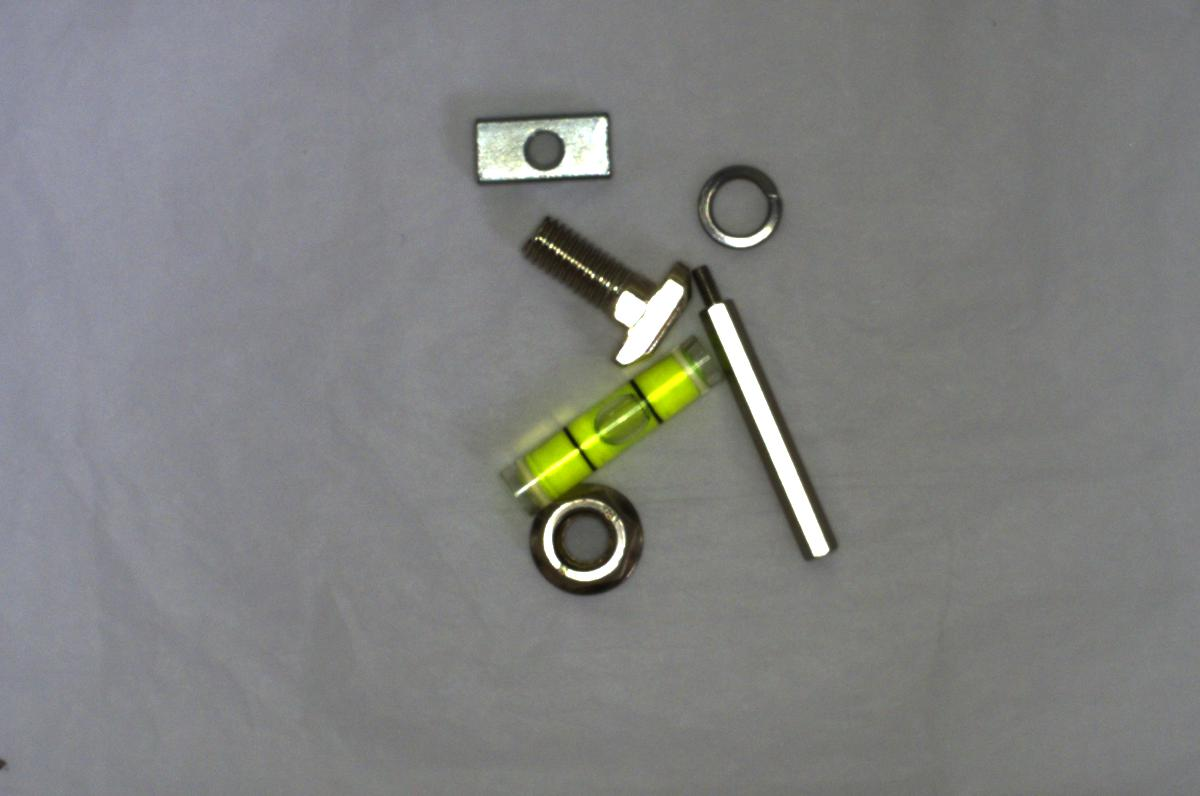Flange nut: (515, 482, 660, 605)
Hexagonal steel column: (693, 260, 840, 568)
Horizontal bubble: (487, 339, 722, 515)
Rectangular nut: (465, 110, 621, 189)
Spring washer: (692, 153, 785, 254)
T-shaped screw: (519, 210, 695, 358)
